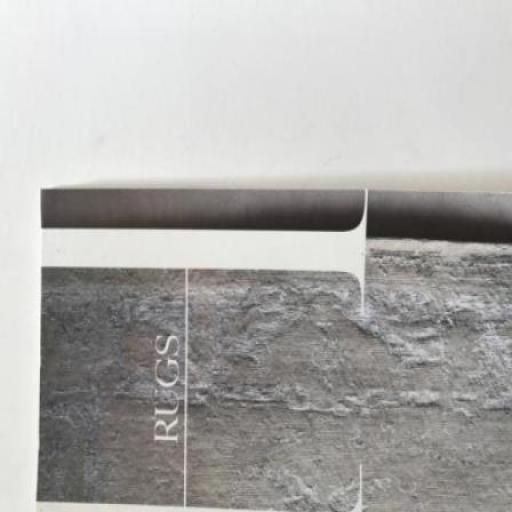paper: (32, 172, 512, 512)
